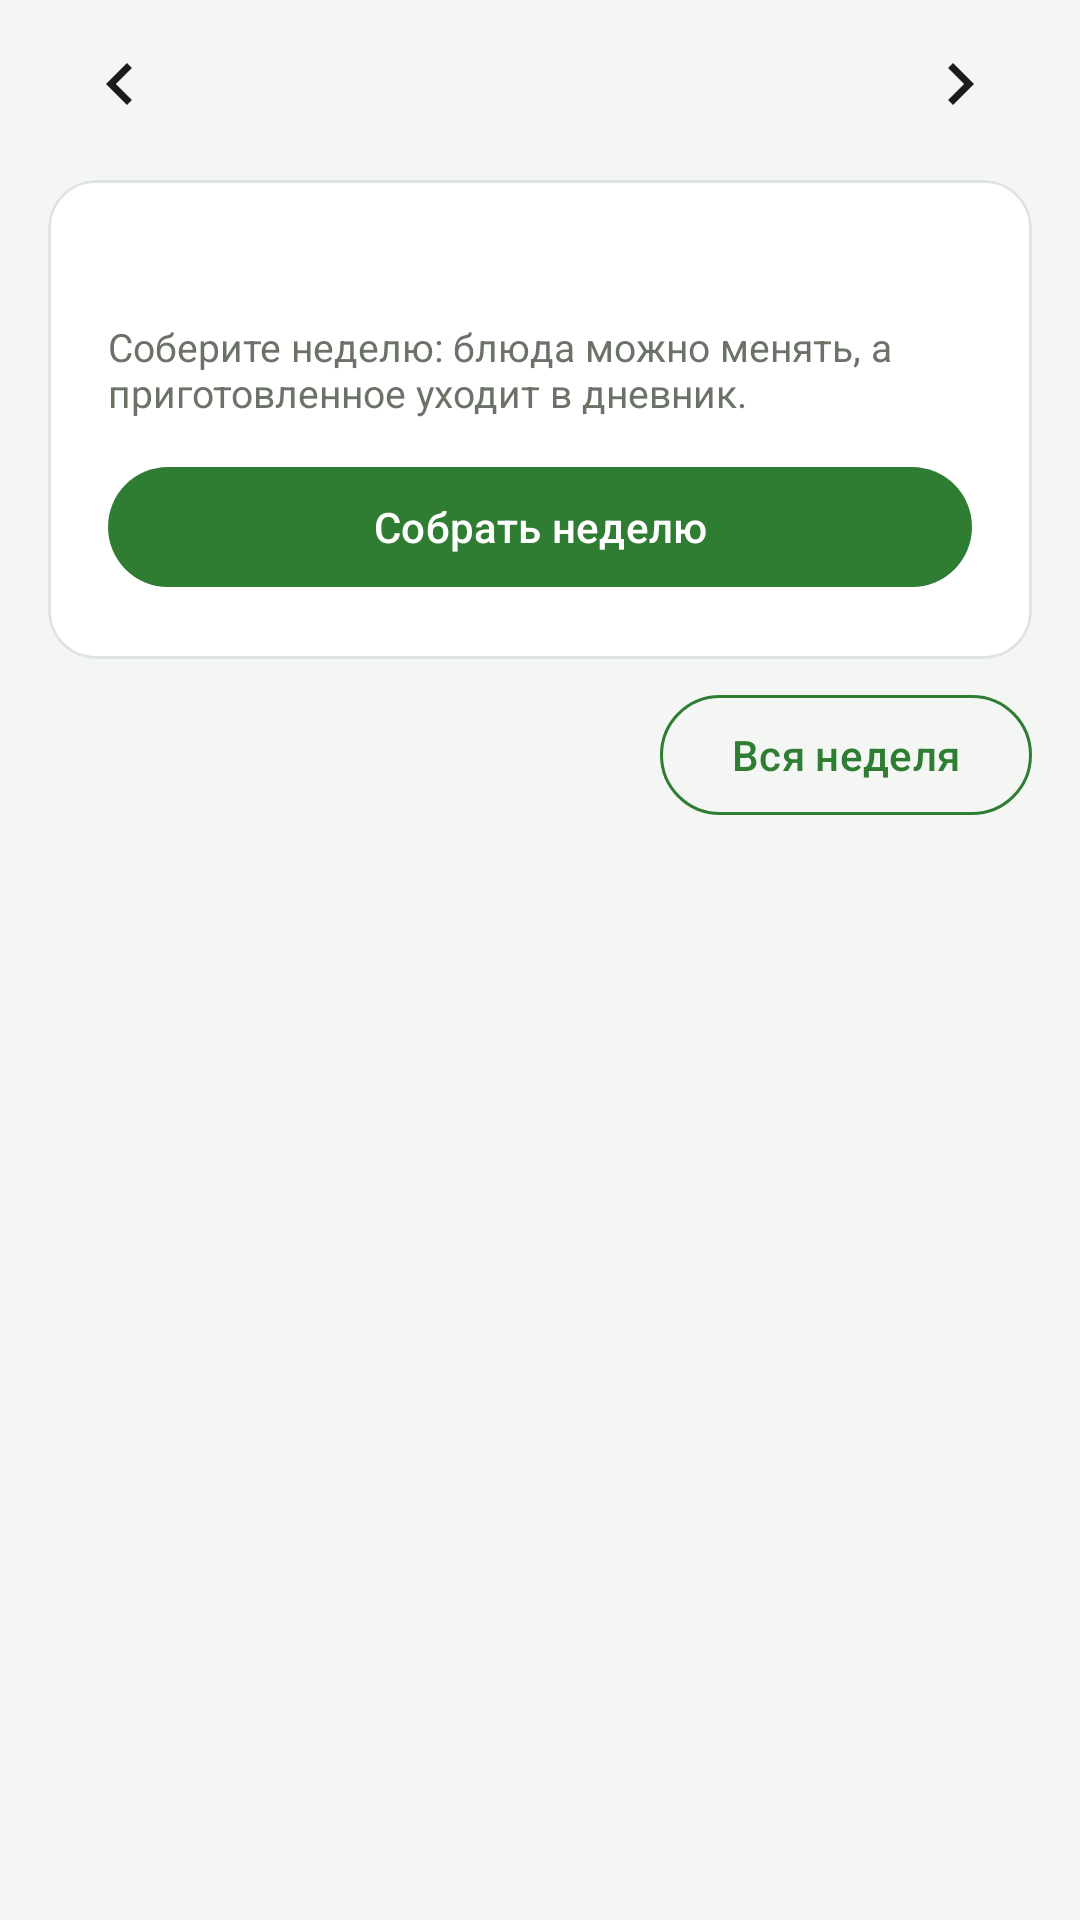

Icons on this 1080 × 1920 Android screen, each with its box as (x1, y1, x2, y2):
Предыдущий день: (106, 63, 132, 105)
Следующий день: (948, 63, 974, 105)
